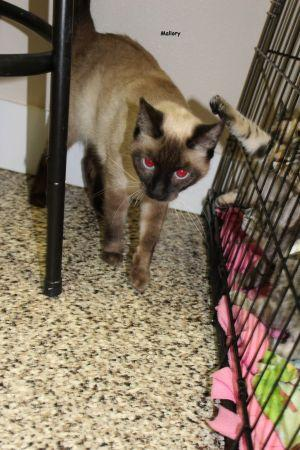siamese: (121, 91, 231, 211)
